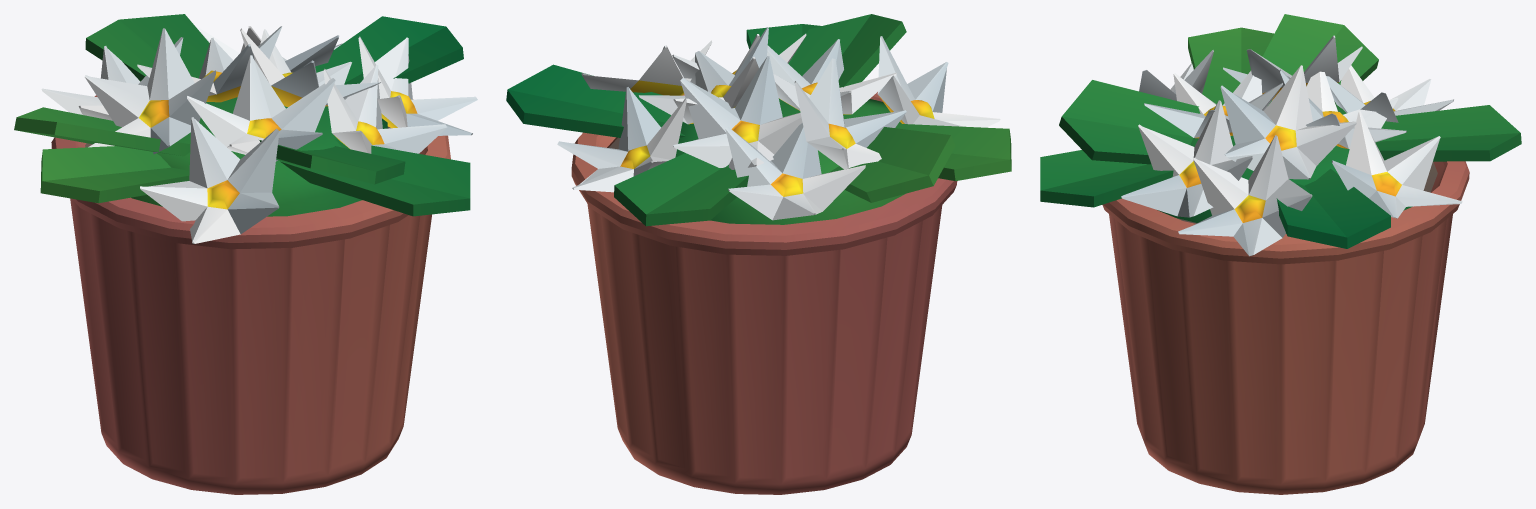
File: OrnateFlowerPotWhite.fbx
3 views of the same model, side by side, from view 1: azimuth 30°, elevation 25°; view 2: azimuth 150°, elevation 25°; view 3: azimuth 270°, elevation 25° (orthographic). The views are drawn at different scales.
Visible parts, largest first — view 1: OrnateFlowerPotWhite; view 2: OrnateFlowerPotWhite; view 3: OrnateFlowerPotWhite.
Boxes of the visible parts, box(x1,y1,x2,y2) form: OrnateFlowerPotWhite: box(14, 14, 477, 494); OrnateFlowerPotWhite: box(506, 14, 1011, 494); OrnateFlowerPotWhite: box(1040, 14, 1521, 494).
Bounding box in the file's own units: 0.4594 × 0.3775 × 0.4405.
